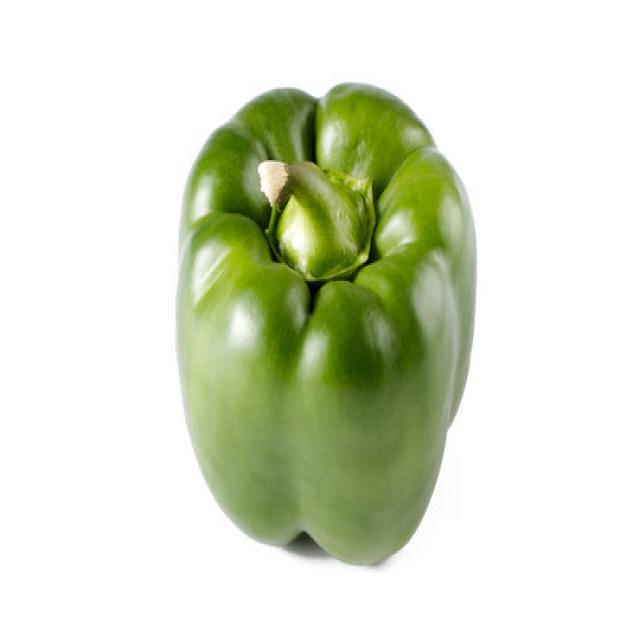Bell Pepper: (173, 80, 478, 567)
